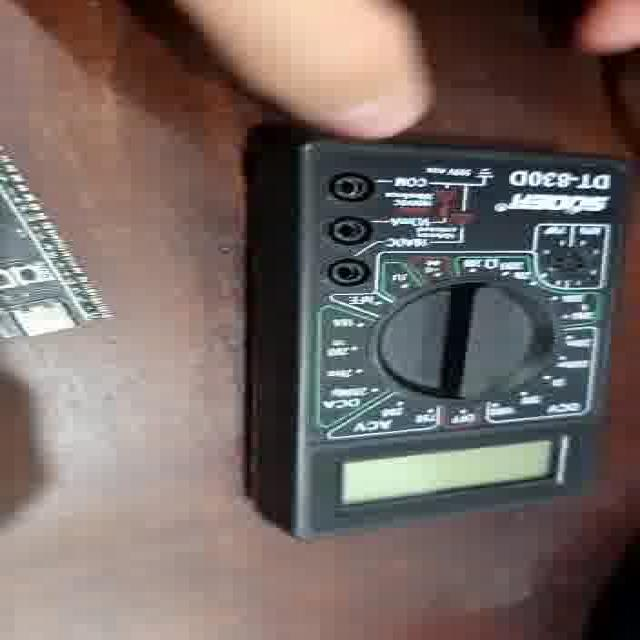multimeter: (282, 133, 618, 512)
